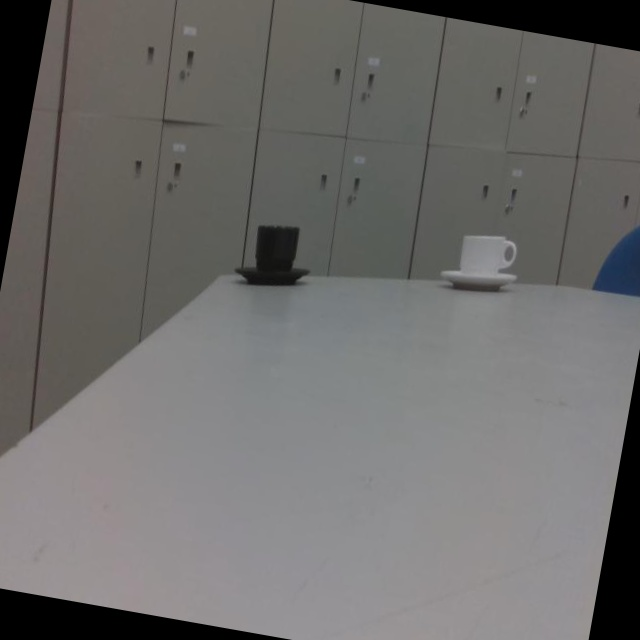black: (236, 222, 314, 289)
white: (440, 232, 520, 294)
